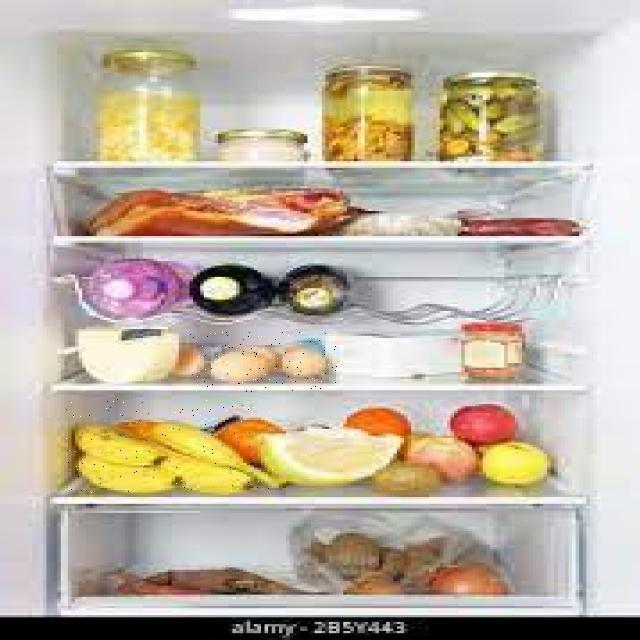bananas: (66, 399, 274, 493)
eggs: (190, 332, 338, 392)
